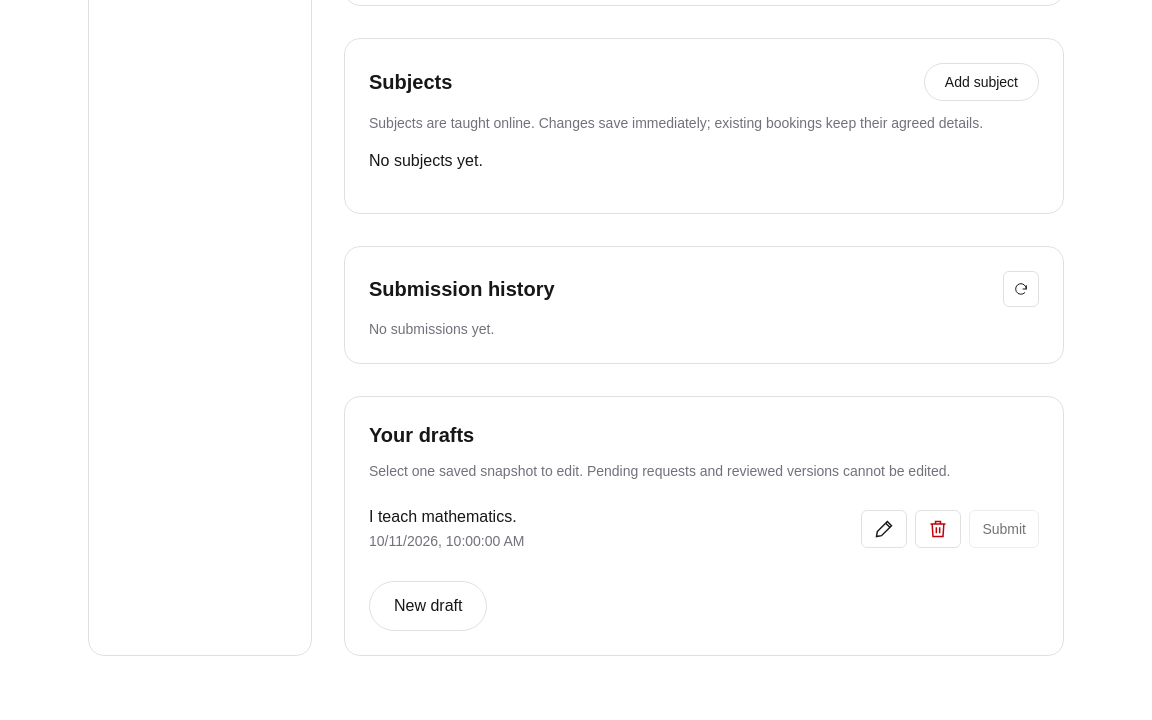
Test: keeps submission disabled when a draft differs from the approved profile only in certificates
(page scrolled)
Click the button named "Edit draft ".
click(884, 529)  # box [861,510,907,548]
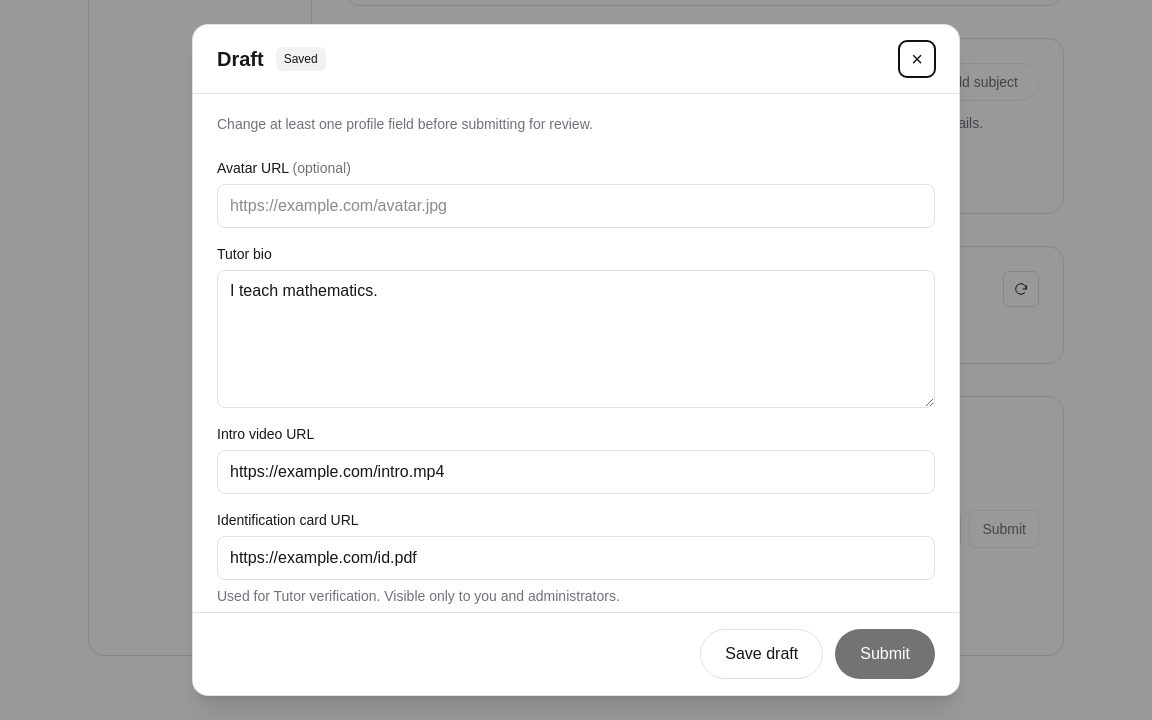
Expected: the text box labelled "Tutor bio" is shown, [217,270,935,408]
Expected: the button "Submit" is disabled, [835,629,935,679]
